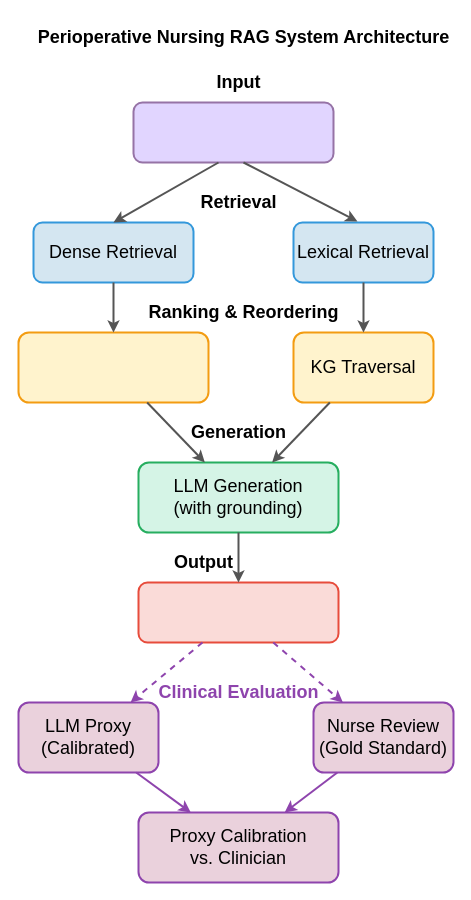
This 471x900 diagram has some shape labels left out. Each missing label, with the box of its shape:
Cited Answer: (137, 581, 339, 643)
Nurse Question: (132, 101, 334, 163)
Tier Prior Weighting: (17, 331, 209, 403)
